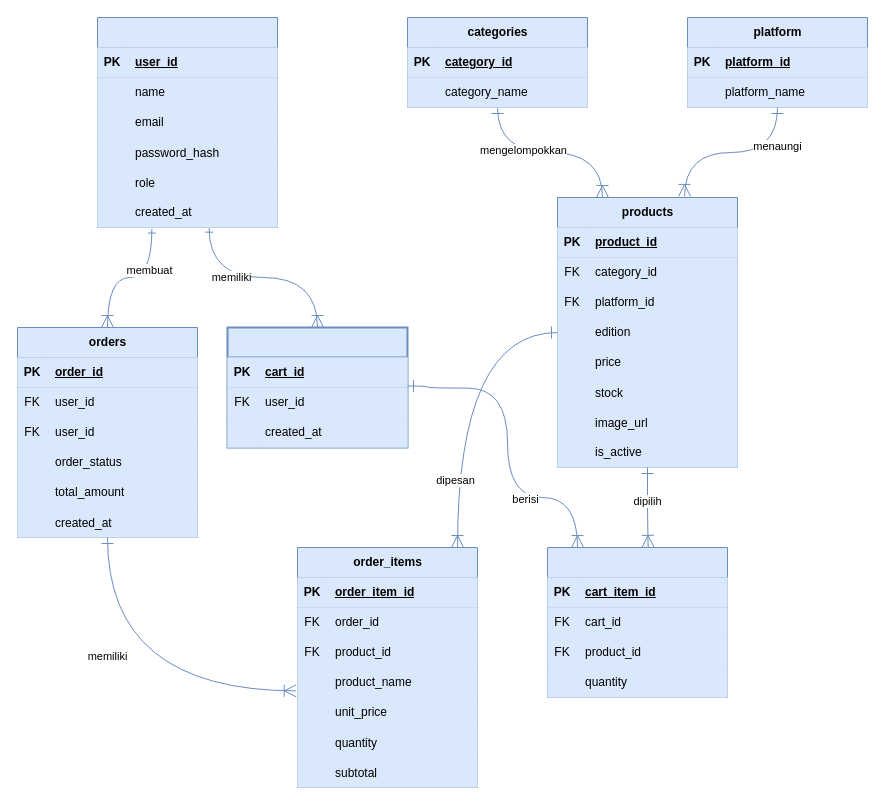
This 885x805 diagram has some shape labels left out. The shapes that lost their labels are listed below. From the top down, each one's box as (x1, y1, x2, y2) in pixels, then its label:
(96, 16, 278, 228): users
(226, 326, 408, 448): carts
(546, 546, 728, 698): cart_items
